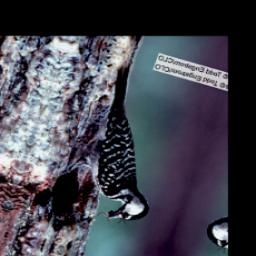Woodpecker: (58, 62, 195, 232)
